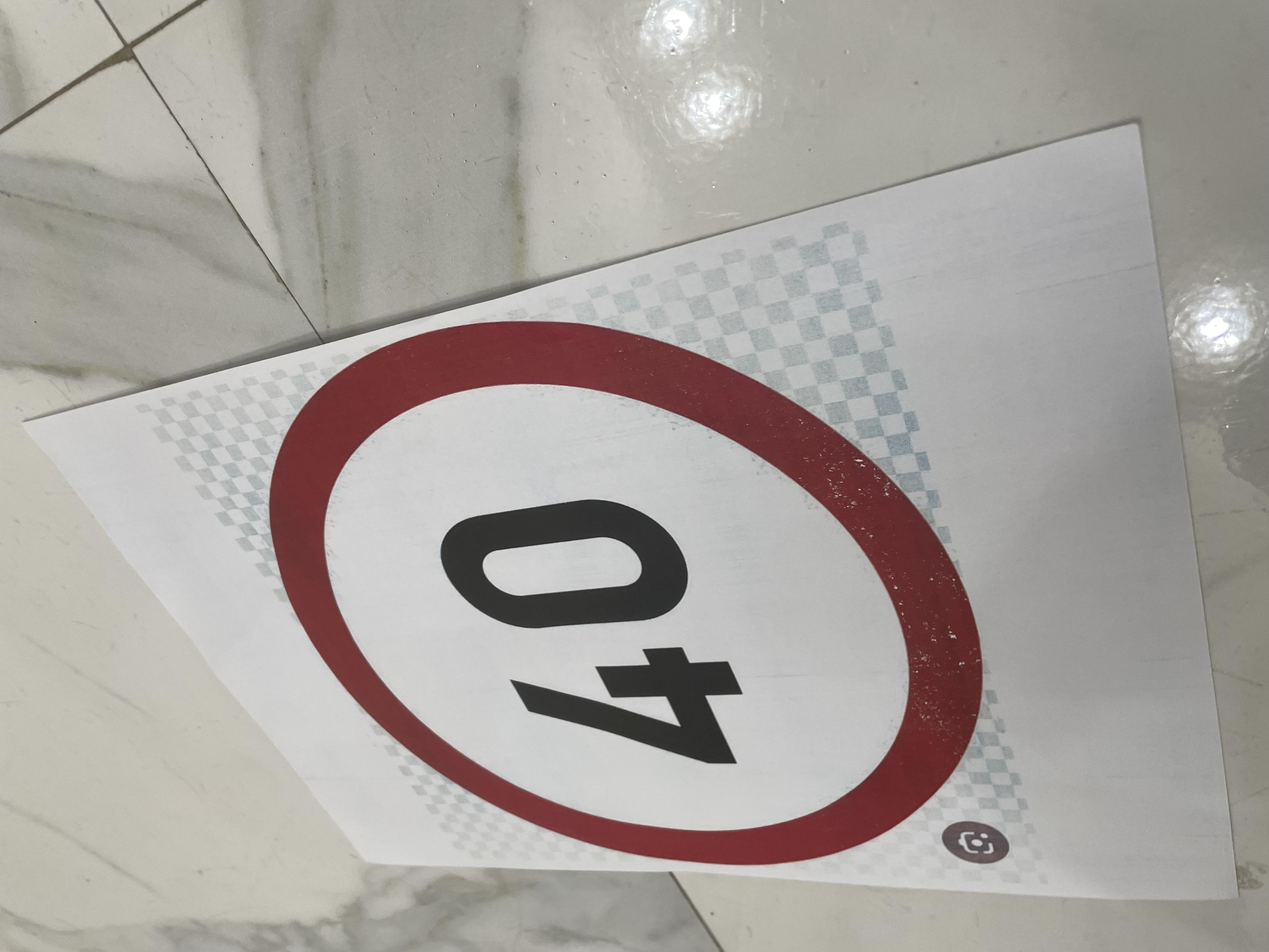40-Speed: (89, 194, 861, 744)
